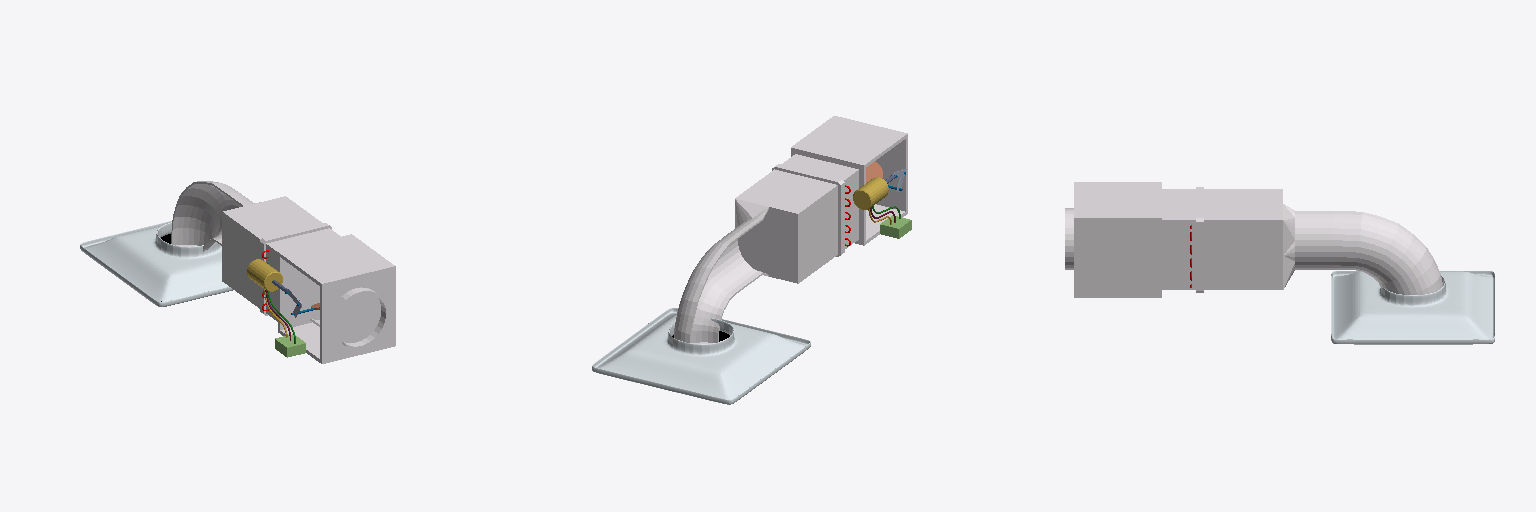
File: VAVBoxFinal.obj
3 renders of one model, left to right at view 1: azimuth 30°, elevation 25°; view 2: azimuth 150°, elevation 25°; view 3: azimuth 270°, elevation 25°, orthographic.
Parts seen in each view (by area): view 1: VAVBoxFinal.obj; view 2: VAVBoxFinal.obj; view 3: VAVBoxFinal.obj.
Boxes of the visible parts, x1=… form: VAVBoxFinal.obj: x1=80, y1=181, x2=395, y2=363; VAVBoxFinal.obj: x1=592, y1=116, x2=911, y2=404; VAVBoxFinal.obj: x1=1065, y1=182, x2=1494, y2=344.
Bounding box in the file's own units: 1.06 × 0.8027 × 2.79.